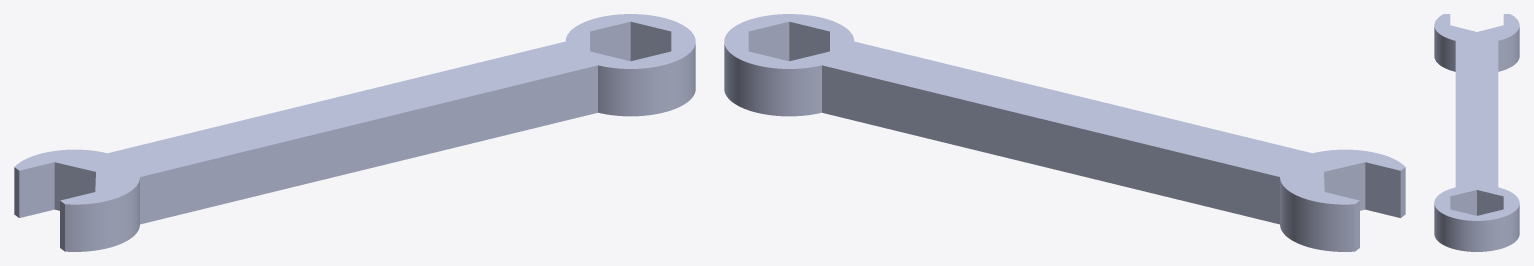
Rendered from wrench_2.obj.
The picture shows the model from 3 angles, left to right: view 1: azimuth 30°, elevation 25°; view 2: azimuth 150°, elevation 25°; view 3: azimuth 270°, elevation 25°; orthographic projection. The views are drawn at different scales.
Parts seen in each view (by area): view 1: mesh4, mesh11, mesh5, mesh3, mesh9, mesh10, mesh14, mesh15; view 2: mesh6, mesh11, mesh5, mesh7, mesh1, mesh0, mesh13, mesh18; view 3: mesh11, mesh5, mesh3, mesh7, mesh16, mesh17.
Boxes of the visible parts, x1=… form: mesh4: x1=140, y1=65, x2=597, y2=224; mesh11: x1=14, y1=14, x2=695, y2=204; mesh5: x1=598, y1=44, x2=695, y2=116; mesh3: x1=65, y1=179, x2=139, y2=251; mesh9: x1=19, y1=162, x2=54, y2=217; mesh10: x1=54, y1=162, x2=95, y2=210; mesh14: x1=630, y1=22, x2=671, y2=60; mesh15: x1=590, y1=21, x2=630, y2=61; mesh6: x1=822, y1=65, x2=1279, y2=224; mesh11: x1=724, y1=14, x2=1405, y2=204; mesh5: x1=724, y1=44, x2=821, y2=116; mesh7: x1=1280, y1=179, x2=1354, y2=251; mesh1: x1=1365, y1=162, x2=1400, y2=217; mesh0: x1=1324, y1=162, x2=1365, y2=210; mesh13: x1=748, y1=22, x2=789, y2=60; mesh18: x1=789, y1=21, x2=829, y2=61; mesh11: x1=1434, y1=14, x2=1519, y2=220; mesh5: x1=1434, y1=204, x2=1519, y2=251; mesh3: x1=1434, y1=27, x2=1455, y2=71; mesh7: x1=1498, y1=27, x2=1519, y2=71; mesh16: x1=1477, y1=190, x2=1503, y2=215; mesh17: x1=1450, y1=190, x2=1476, y2=215.
Bounding box in the file's own units: 0.2 × 0.014 × 0.0348.
